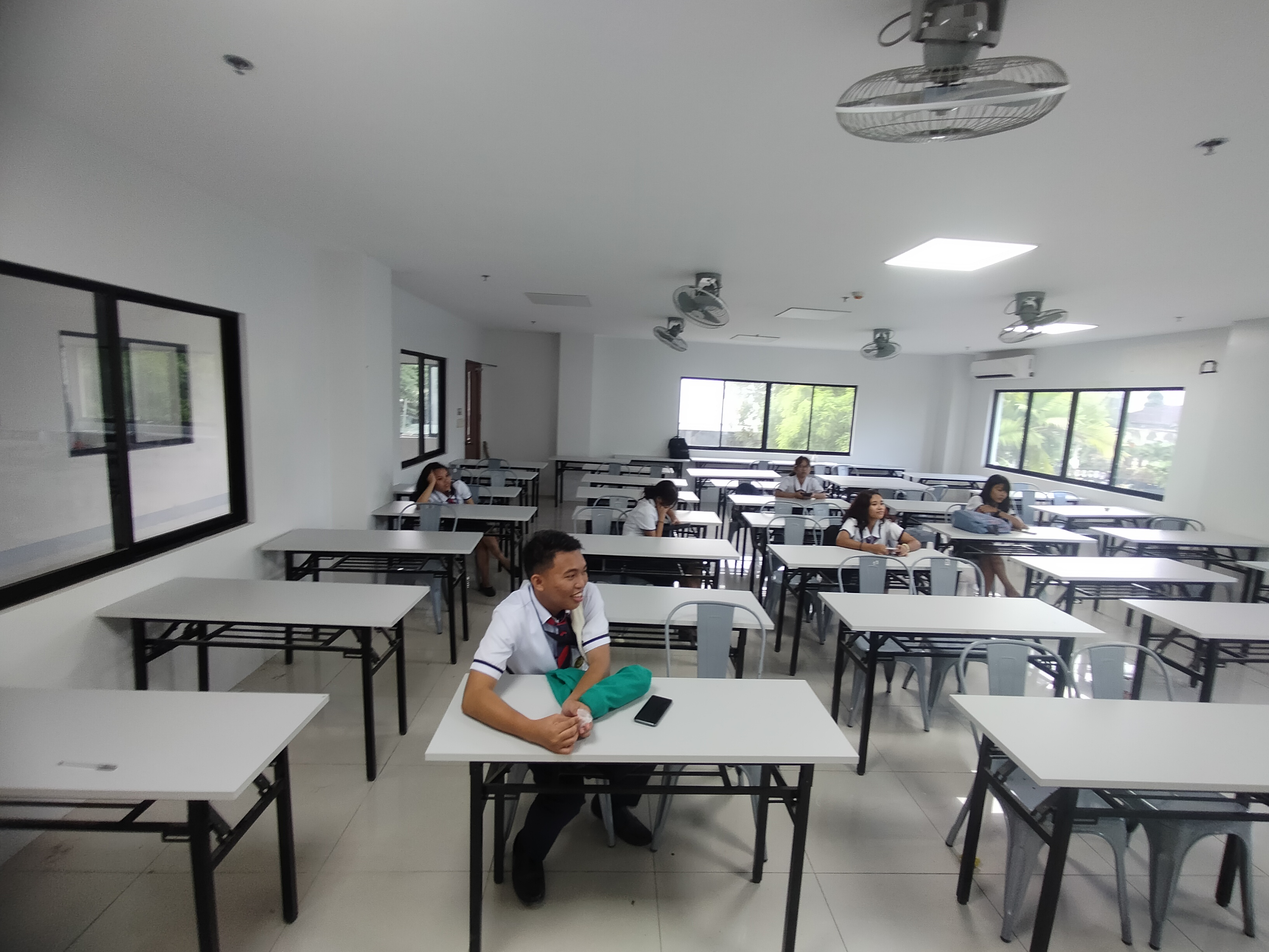with-student: (420, 526, 857, 833), (768, 489, 973, 586), (553, 476, 741, 574), (925, 474, 1095, 552), (371, 459, 537, 533), (730, 452, 863, 514)
